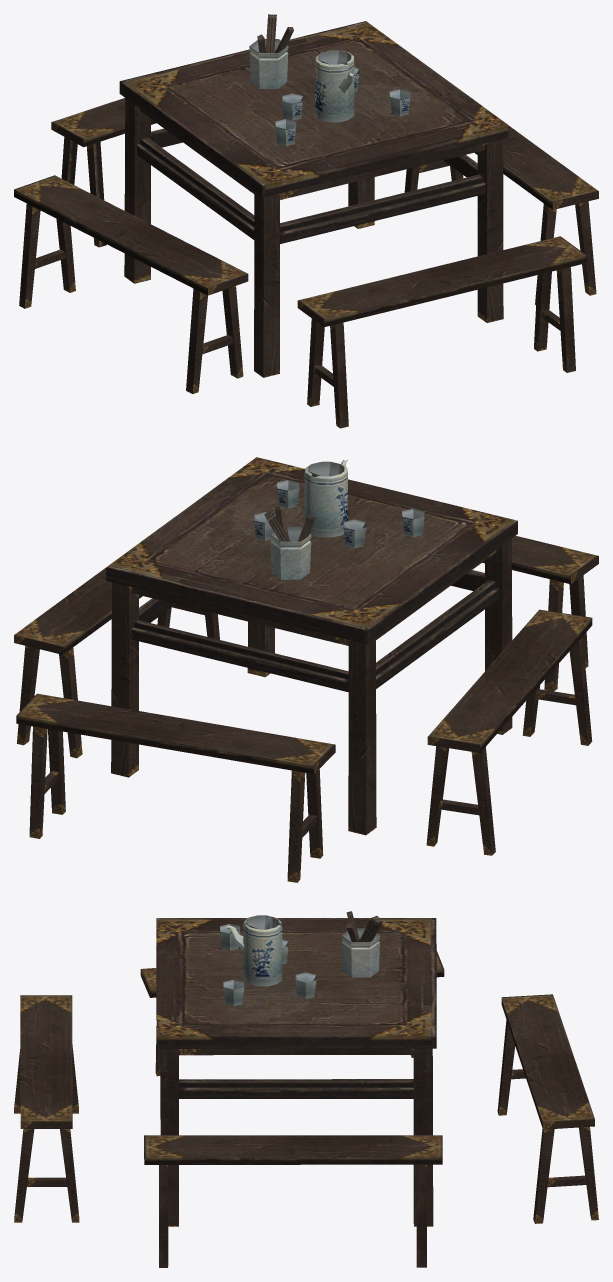
Rendered from Table_2.FBX.
3 renders of one model, top to bottom at view 1: azimuth 30°, elevation 25°; view 2: azimuth 150°, elevation 25°; view 3: azimuth 270°, elevation 25°, orthographic. The views are drawn at different scales.
Visible parts, largest first — view 1: Table_2; view 2: Table_2; view 3: Table_2.
Boxes of the visible parts, <box> form: Table_2: <box>14,14,598,428</box>; Table_2: <box>14,457,598,882</box>; Table_2: <box>14,911,598,1267</box>.
Size of the model in its own units: 94.05 by 51.57 by 109.
